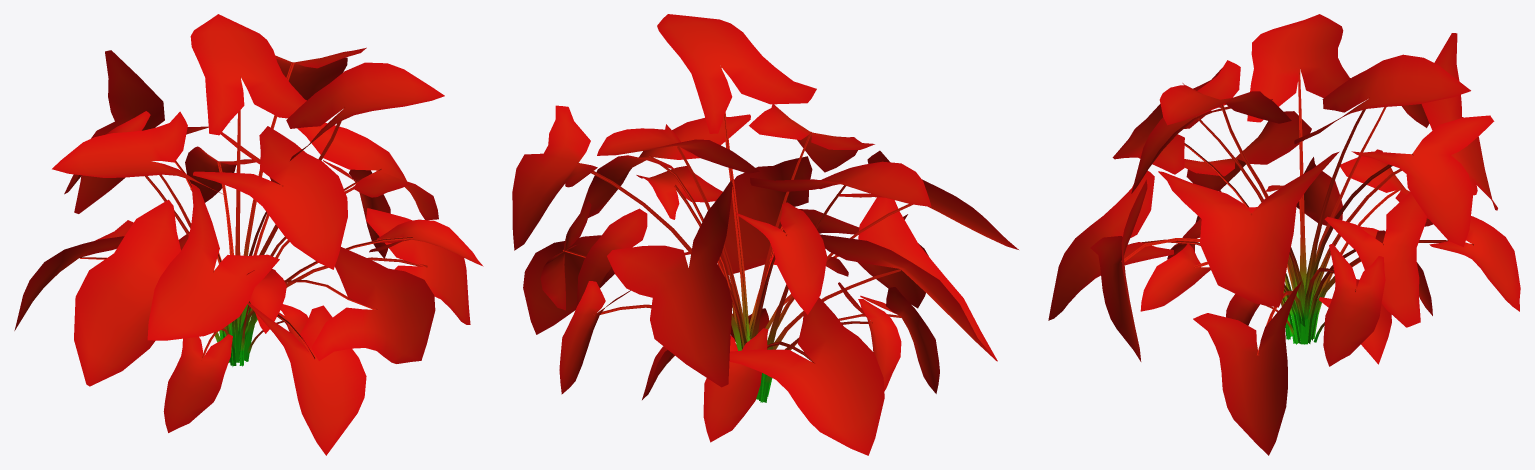
The model's file is PlantFern02.fbx.
The picture shows the model from 3 angles, left to right: view 1: azimuth 30°, elevation 25°; view 2: azimuth 150°, elevation 25°; view 3: azimuth 270°, elevation 25°; orthographic projection. The views are drawn at different scales.
Visible parts, largest first — view 1: _0db4_Var2_LOD0; view 2: _0db4_Var2_LOD0; view 3: _0db4_Var2_LOD0.
Part boxes in pixels (x1,y1,x2,y2): _0db4_Var2_LOD0: [14, 14, 483, 455]; _0db4_Var2_LOD0: [512, 14, 1018, 455]; _0db4_Var2_LOD0: [1048, 14, 1520, 455].
Bounding box in the file's own units: 66.79 × 46.06 × 64.
